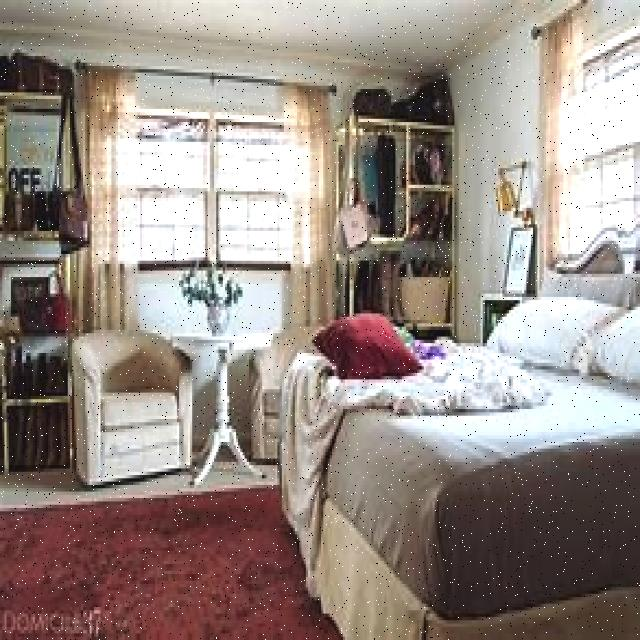bed: (321, 244, 640, 610)
